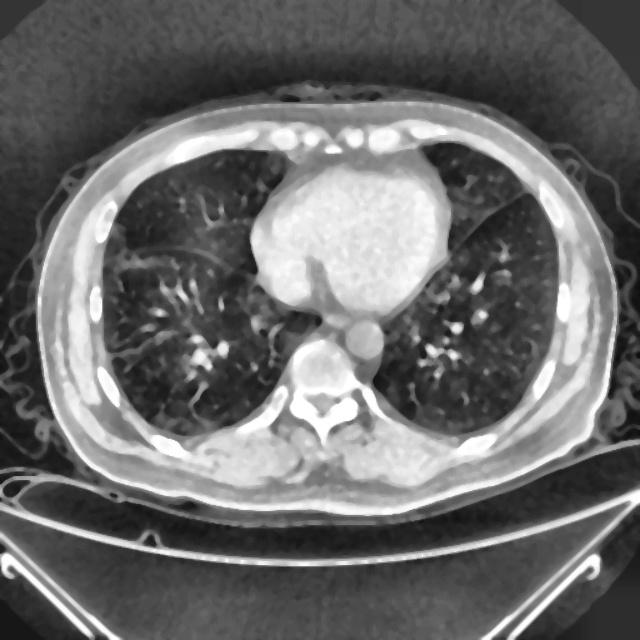covid: (33, 80, 620, 525)
